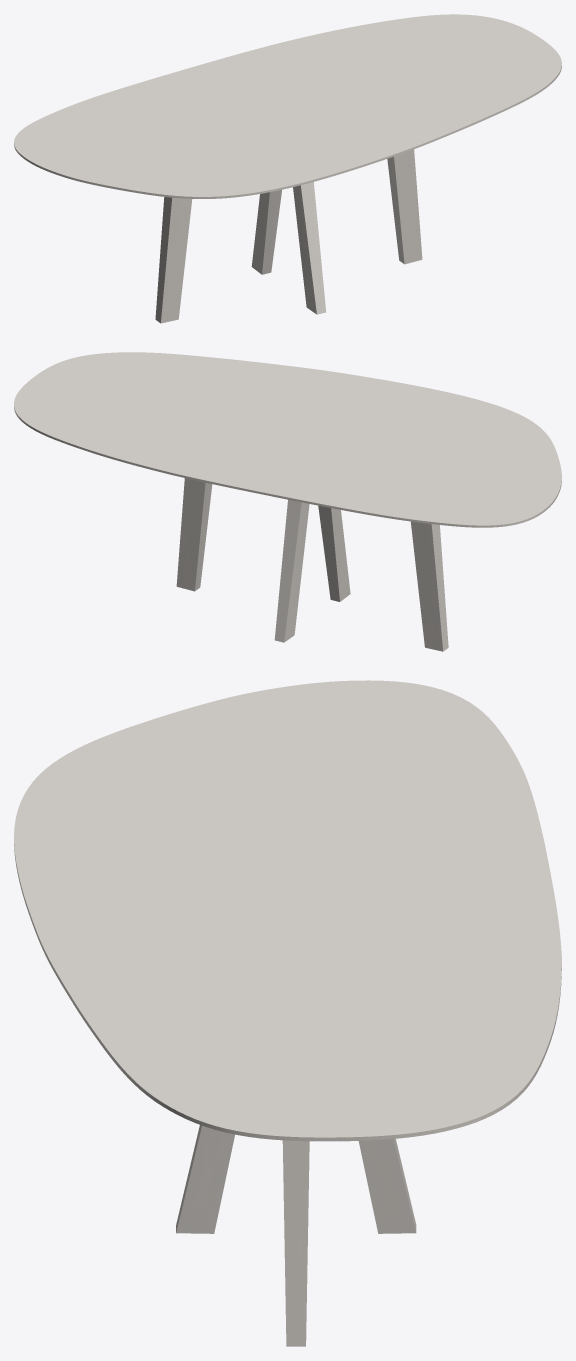
Rendered from pearlwhite_leaf2_facet_searwalnut.glb.
3 views of the same model, one above another, from view 1: azimuth 30°, elevation 25°; view 2: azimuth 150°, elevation 25°; view 3: azimuth 270°, elevation 25° (orthographic). The views are drawn at different scales.
Visible parts, largest first — view 1: facet_leaf2, searwalnut; view 2: facet_leaf2, searwalnut; view 3: facet_leaf2, searwalnut.
Boxes of the visible parts, x1,y1,x2,y2 form: facet_leaf2: [14, 14, 561, 198]; searwalnut: [155, 149, 422, 323]; facet_leaf2: [14, 352, 561, 527]; searwalnut: [176, 478, 448, 651]; facet_leaf2: [14, 680, 561, 1141]; searwalnut: [176, 1125, 416, 1346].
Bounding box in the file's own units: 7.5 × 2.52 × 3.8.
1 material, 1 textured.
